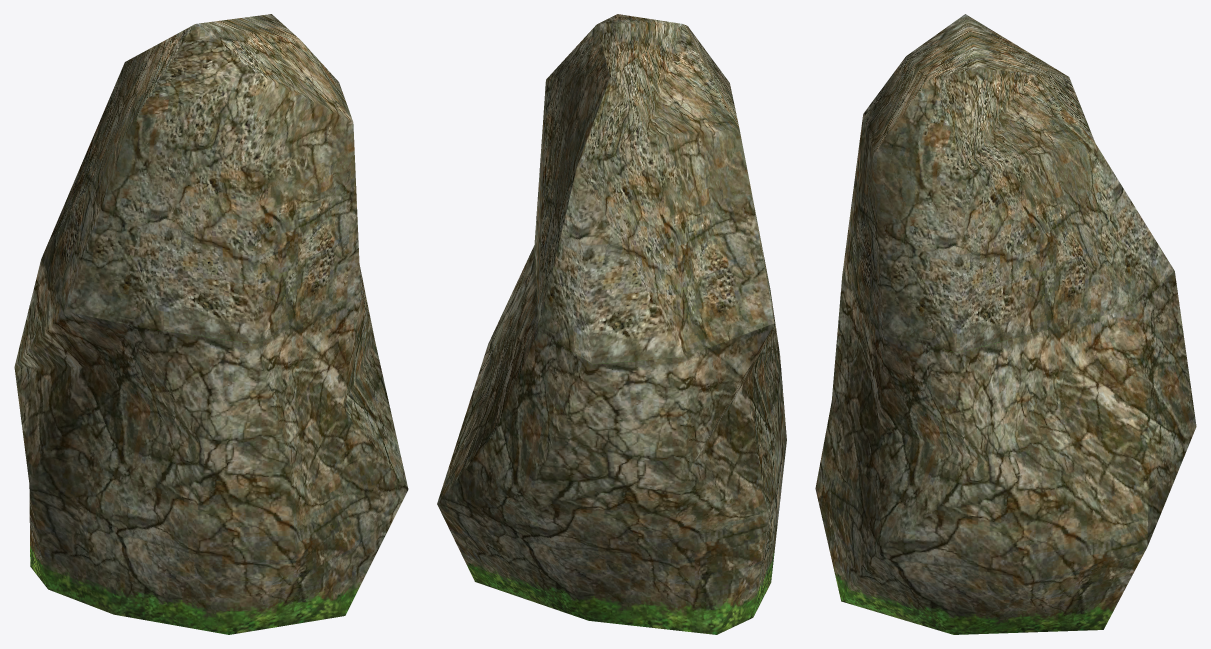
The model's file is rock10.glb.
3 views of the same model, side by side, from view 1: azimuth 30°, elevation 25°; view 2: azimuth 150°, elevation 25°; view 3: azimuth 270°, elevation 25° (orthographic). The views are drawn at different scales.
Parts seen in each view (by area): view 1: rock10; view 2: rock10; view 3: rock10.
Boxes of the visible parts, box(x1,y1,x2,y2) form: rock10: box(14, 14, 408, 634); rock10: box(437, 14, 786, 634); rock10: box(815, 14, 1196, 634).
Bounding box in the file's own units: 6.94 × 11.13 × 7.03.
2 materials, 2 textured.
